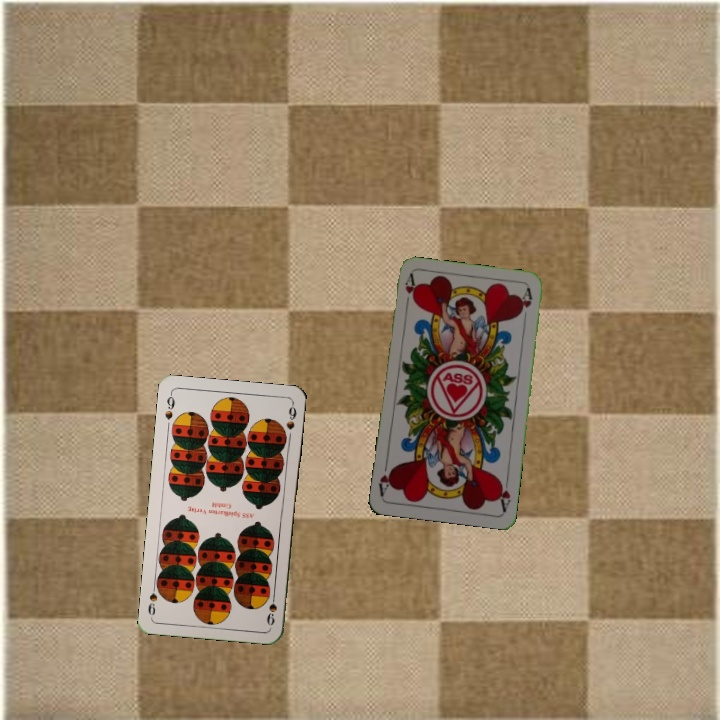HA: (494, 473, 513, 513), (401, 271, 418, 311)
S9: (263, 588, 280, 628), (161, 390, 177, 422)
